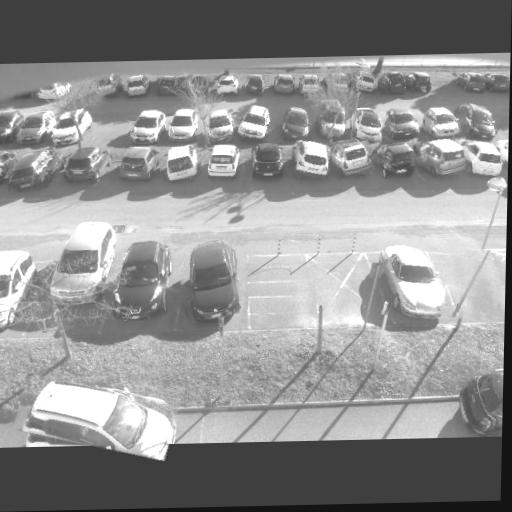busy: (14, 378, 177, 456), (376, 241, 454, 320), (44, 219, 115, 303), (105, 237, 176, 319), (175, 238, 242, 323), (457, 368, 504, 435), (2, 148, 62, 193), (412, 137, 471, 182), (420, 121, 467, 166), (290, 138, 337, 181), (0, 251, 32, 311), (330, 137, 375, 179), (59, 148, 109, 185), (157, 145, 203, 185), (45, 109, 93, 146), (114, 146, 161, 183), (378, 122, 420, 163), (233, 102, 276, 142), (462, 140, 506, 179), (456, 103, 501, 141), (372, 142, 417, 179), (124, 108, 168, 144), (247, 142, 289, 179), (421, 106, 463, 141), (275, 104, 314, 141), (12, 110, 54, 144), (200, 108, 237, 144), (164, 109, 201, 144), (313, 103, 348, 140), (204, 145, 242, 179), (382, 110, 423, 141), (351, 110, 387, 143), (89, 74, 123, 100), (377, 71, 408, 95), (0, 111, 23, 143), (121, 75, 152, 98), (457, 73, 489, 95), (351, 71, 379, 95), (184, 74, 214, 96), (212, 76, 240, 98), (269, 75, 298, 96), (322, 73, 351, 93), (154, 76, 181, 97), (0, 151, 14, 189), (241, 76, 265, 97), (406, 73, 432, 92), (485, 75, 509, 95)
free: (232, 396, 377, 438), (443, 246, 506, 323), (61, 76, 97, 102), (97, 121, 129, 143), (430, 74, 457, 93)
